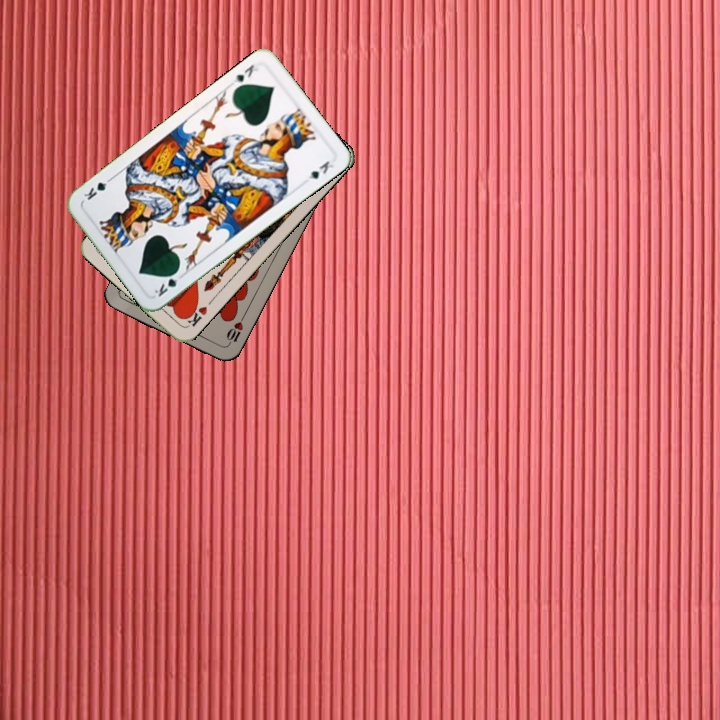GK: (150, 266, 186, 300), (228, 60, 262, 85)
H10: (222, 312, 247, 349)
HK: (180, 300, 210, 329)
